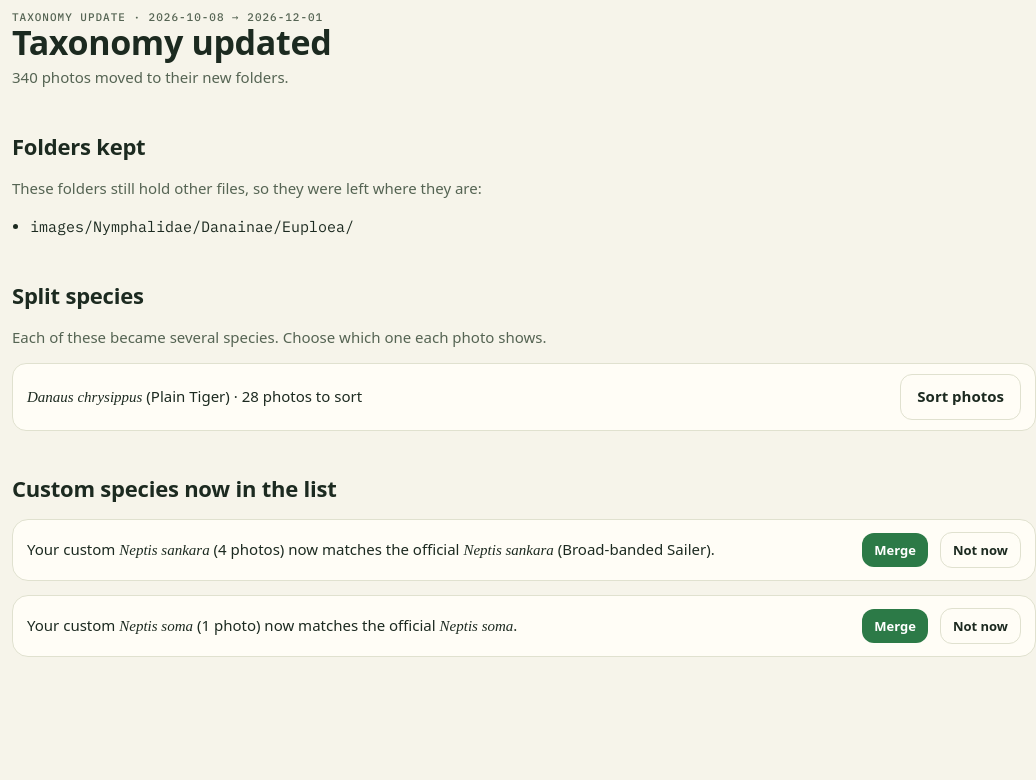
Scenario: done: the photos moved, the folders kept, a link to sort each split and the matches
Expected: the heading "Taxonomy updated" is shown, x1=12 y1=23 x2=331 y2=62
Expected: the text "340 photos moved to their new folders." is shown, x1=12 y1=66 x2=331 y2=89
Click the button "Not now" in the row of "(1 photo) now matches the official" at (980, 626), box x1=940 y1=608 x2=1021 y2=644
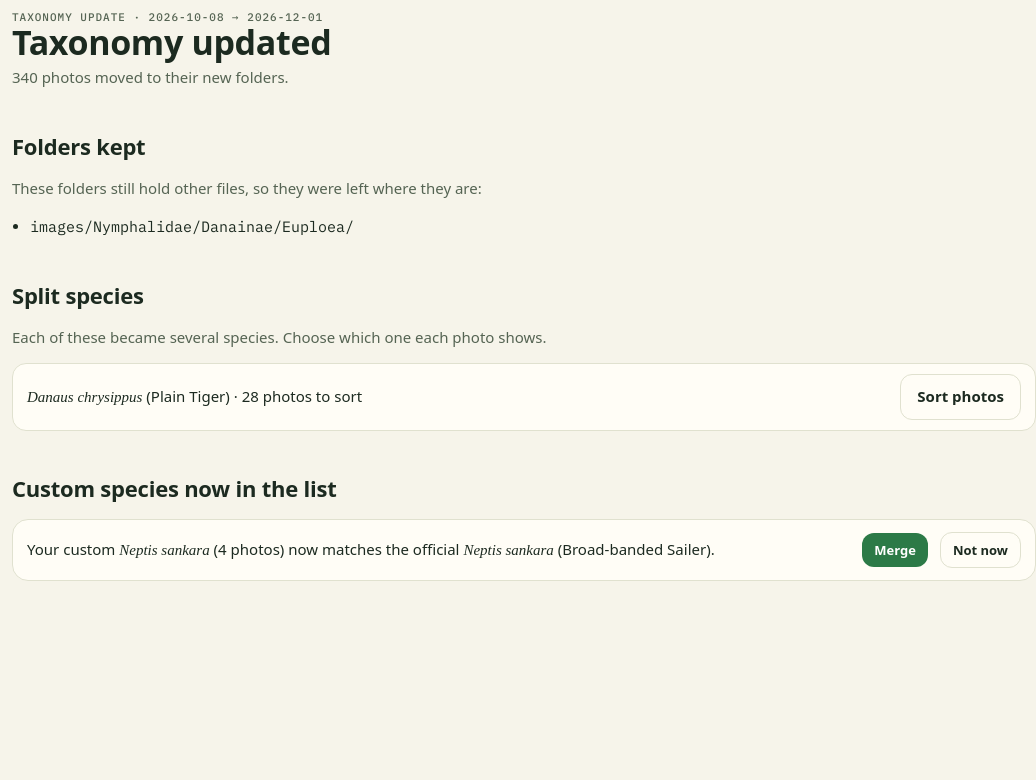
Now the number of elements named "matches an official one" is 1, box x1=12 y1=519 x2=1035 y2=581
